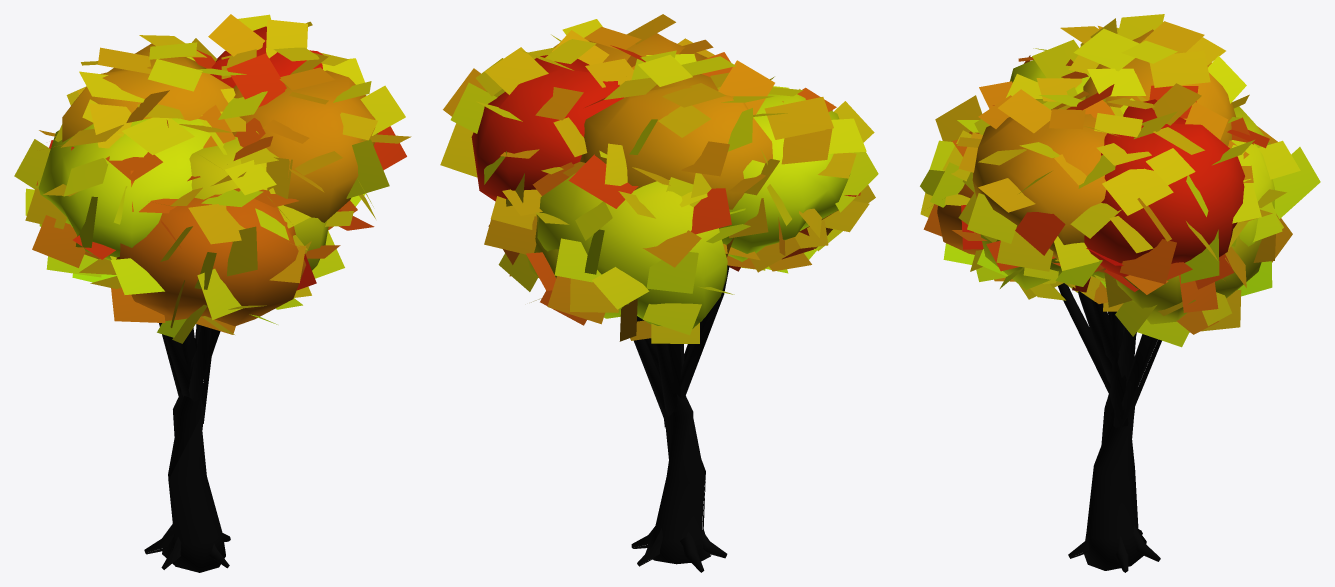
File: tree_broadleaf.glb
3 renders of one model, left to right at view 1: azimuth 30°, elevation 25°; view 2: azimuth 150°, elevation 25°; view 3: azimuth 270°, elevation 25°, orthographic.
Parts seen in each view (by area): view 1: foliage_leaf_sprays, foliage_painted_crown, bark_branching_trunk; view 2: foliage_leaf_sprays, foliage_painted_crown, bark_branching_trunk; view 3: foliage_leaf_sprays, foliage_painted_crown, bark_branching_trunk.
Part boxes in pixels (x1,y1,x2,y2): foliage_leaf_sprays: (14, 14, 411, 343); foliage_painted_crown: (38, 26, 377, 326); bark_branching_trunk: (144, 323, 230, 572); foliage_leaf_sprays: (440, 14, 878, 343); foliage_painted_crown: (471, 33, 850, 328); bark_branching_trunk: (631, 265, 729, 572); foliage_leaf_sprays: (920, 14, 1320, 347); foliage_painted_crown: (937, 29, 1274, 324); bark_branching_trunk: (1058, 283, 1161, 572).
Size of the model in its own units: 4 by 5.19 by 3.82.
